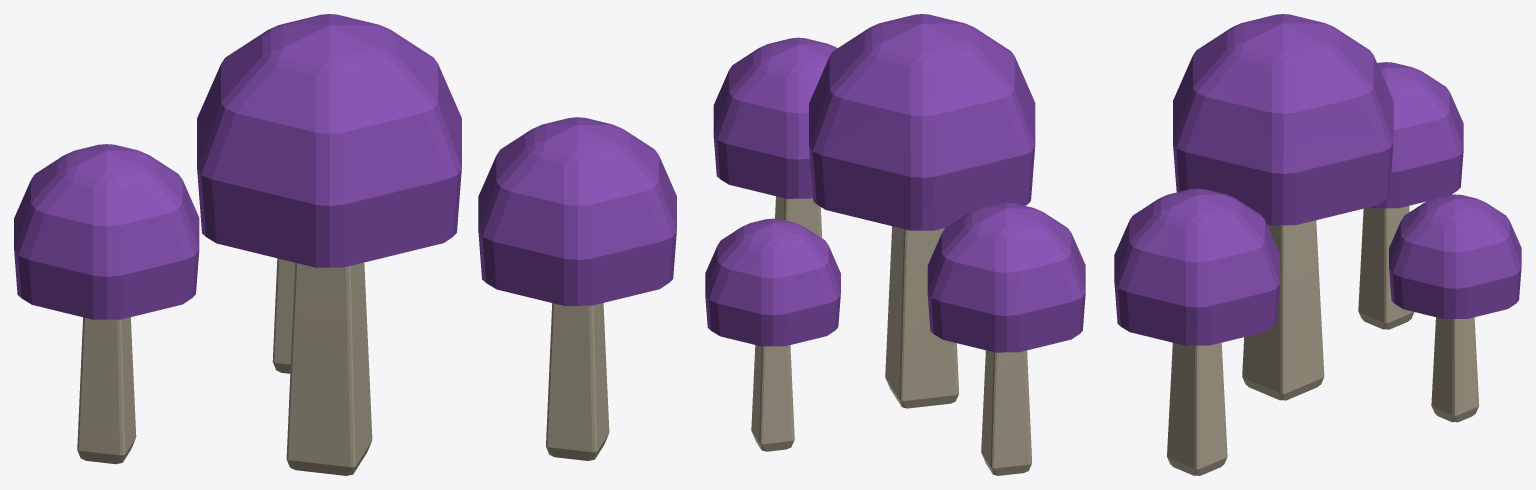
File: prop_mushroom.glb
The picture shows the model from 3 angles, left to right: view 1: azimuth 30°, elevation 25°; view 2: azimuth 150°, elevation 25°; view 3: azimuth 270°, elevation 25°; orthographic projection. The views are drawn at different scales.
Visible parts, largest first — view 1: prop_mushroom_part_0; view 2: prop_mushroom_part_0; view 3: prop_mushroom_part_0.
Part boxes in pixels (<box>): prop_mushroom_part_0: <box>14,14,676,475</box>; prop_mushroom_part_0: <box>705,14,1085,475</box>; prop_mushroom_part_0: <box>1114,14,1521,475</box>.
Bounding box in the file's own units: 0.6056 × 0.47 × 0.4732.
